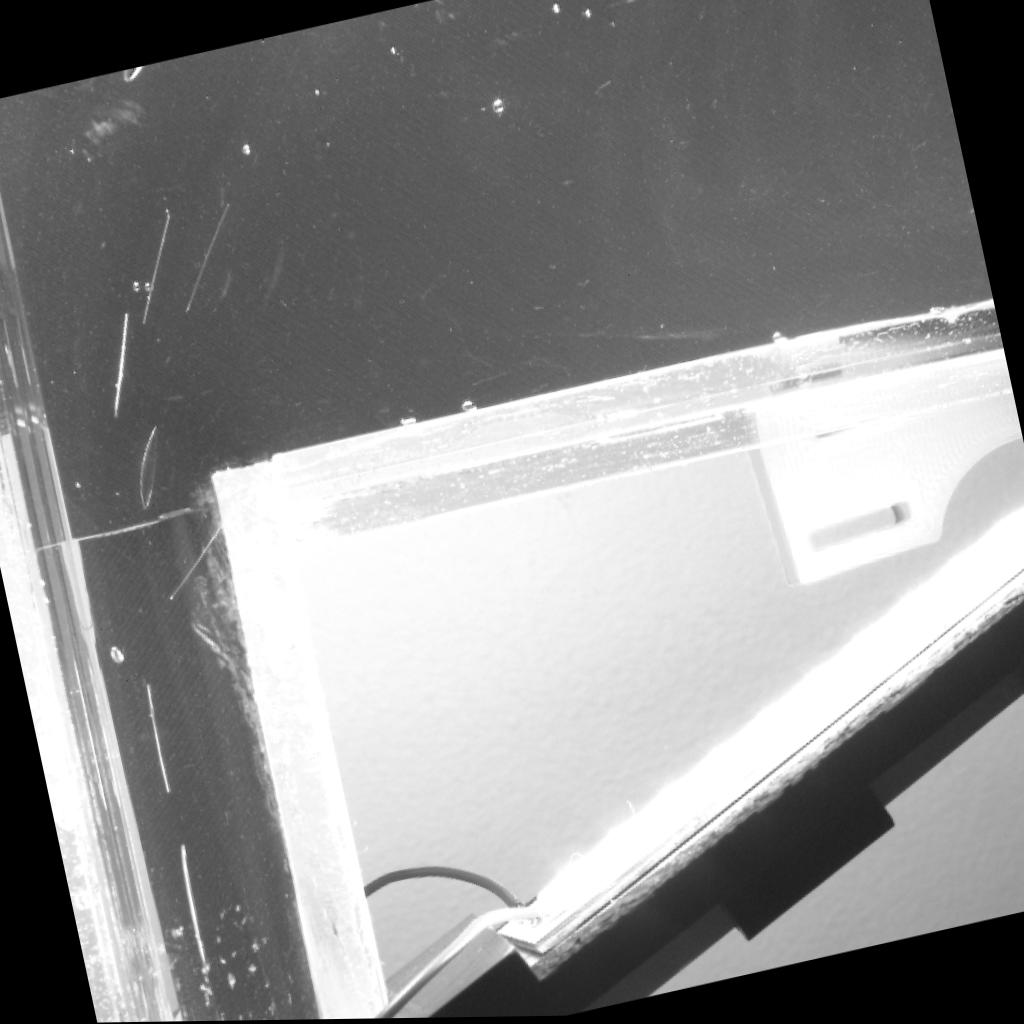Fiber: (184, 201, 232, 314), (176, 844, 211, 974), (168, 521, 224, 599), (141, 210, 175, 325), (145, 686, 172, 790), (114, 310, 132, 426)
